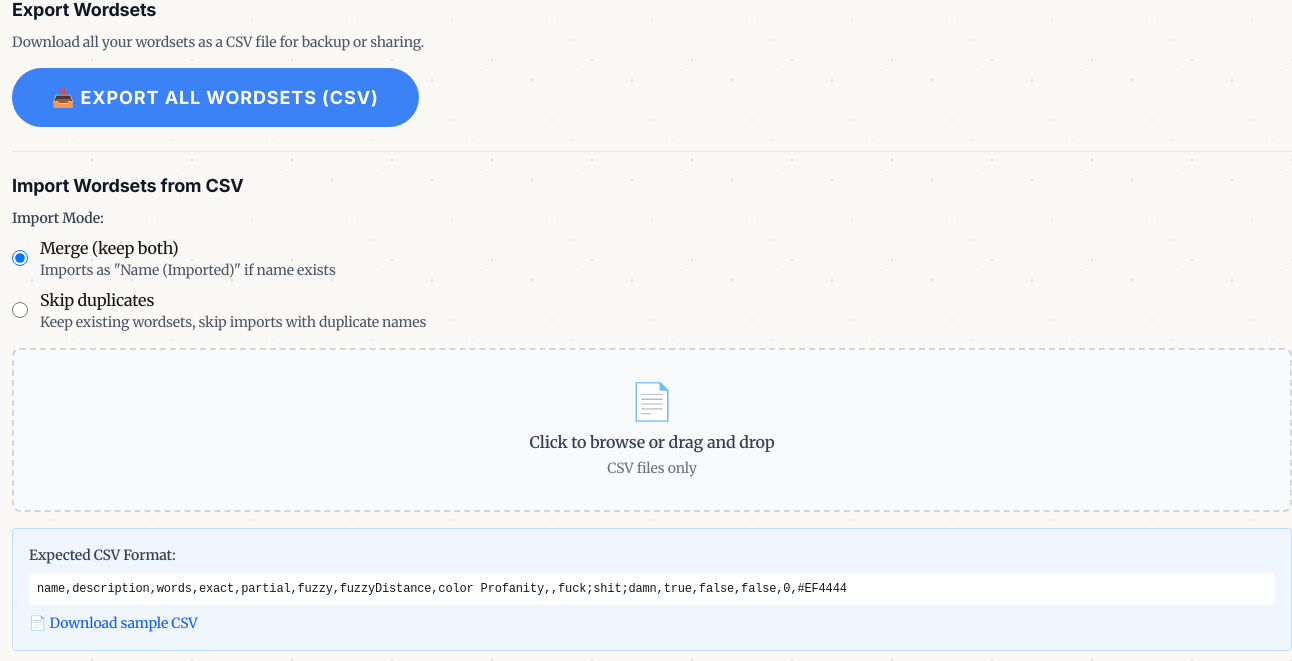
it: WordsetImportExport › Export Functionality › shows error message when export fails
The image size is (1292, 661).
Click the button with test id "export-all-button" at (215, 97), box x1=12 y1=68 x2=419 y2=127
(page scrolled)
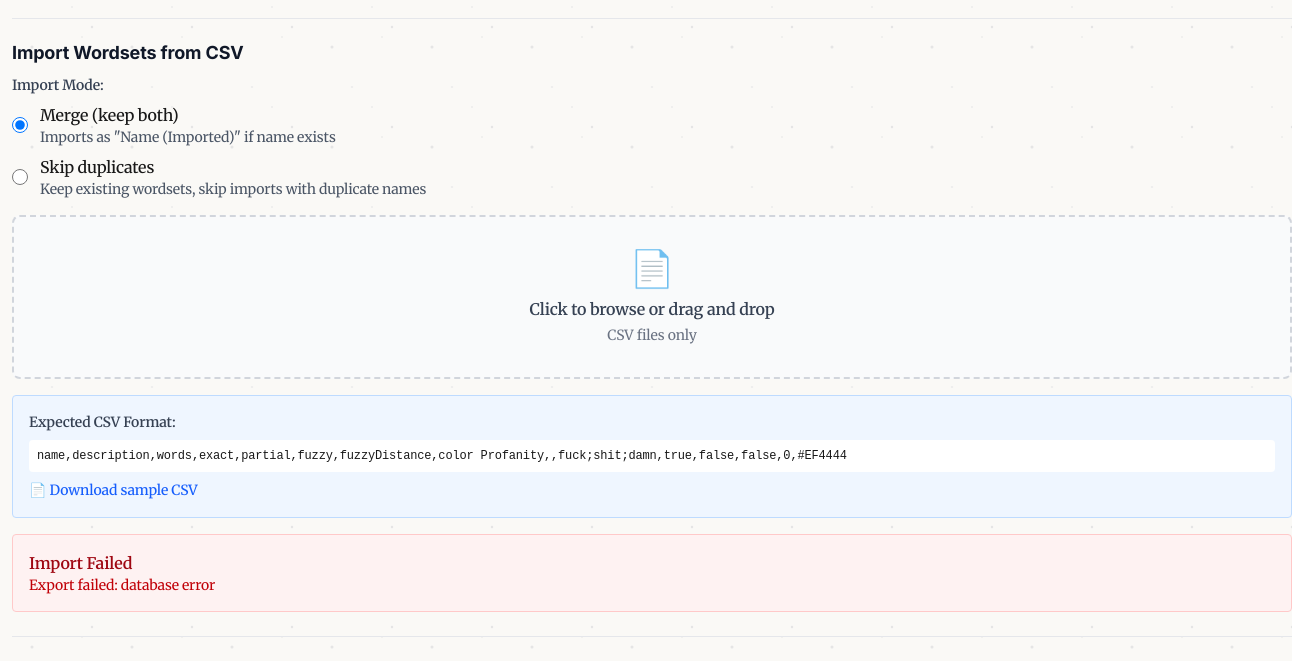
Now the text "Import Failed" is shown, box x1=29 y1=553 x2=132 y2=573
Now the text "Export failed: database error" is shown, box x1=29 y1=576 x2=215 y2=594
